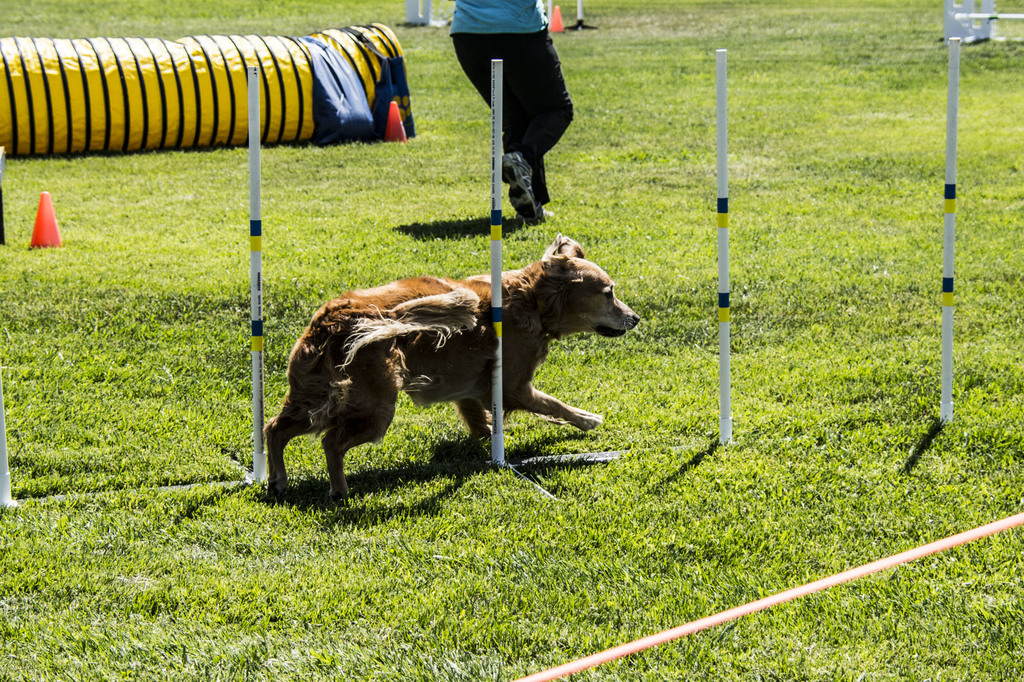Person: (448, 0, 573, 219)
